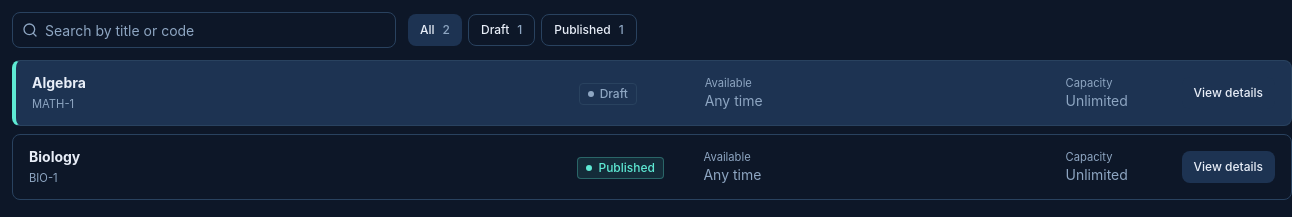
CourseList › searches, filters by status and marks the selected course
This screenshot has width=1292, height=217.
Type "bio" into the search field named "Search courses" at {"x": 204, "y": 30}, box [12,12,396,48]
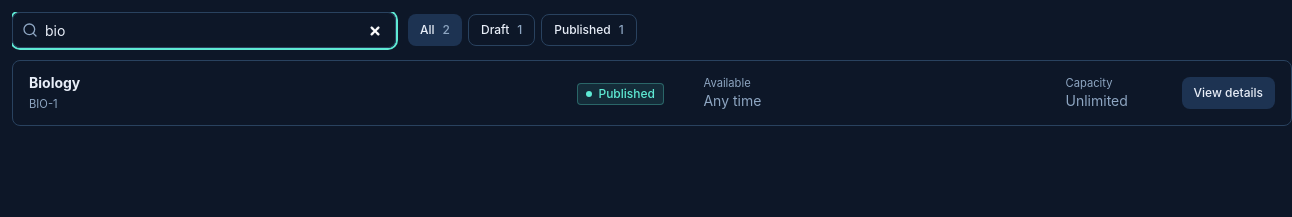
Expected: the text "Algebra" is gone
Click the button with aria-label "View details for Biology" at {"x": 1228, "y": 93}, box [1182,77,1275,109]
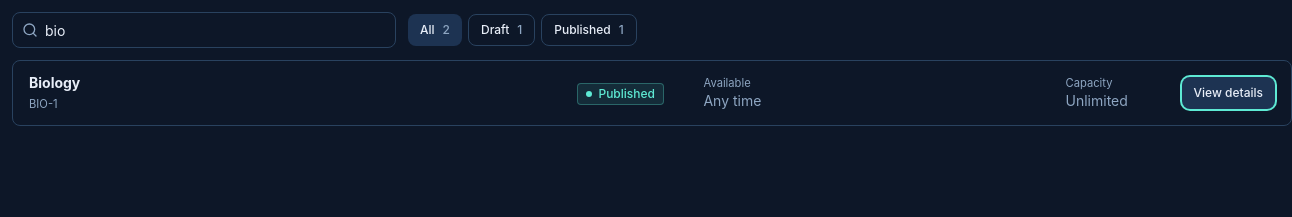
Clear the search field named "Search courses" at {"x": 204, "y": 30}, box [12,12,396,48]
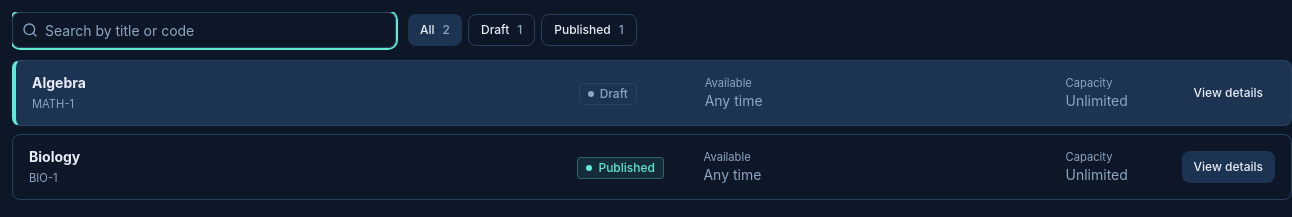
Click the button "Published 1" at {"x": 589, "y": 30}, box [541,14,637,46]
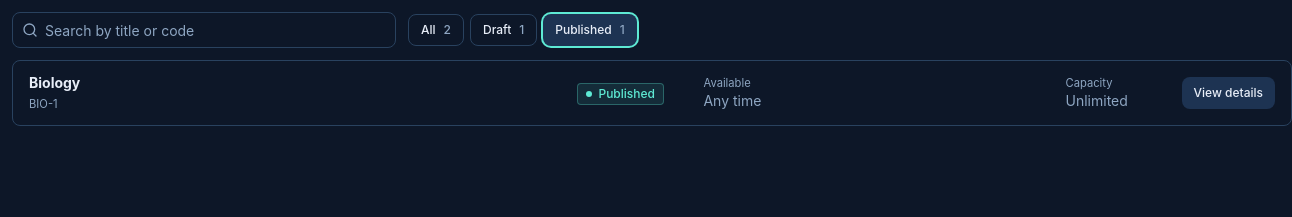
Expected: the text "Biology" is shown, [29,74,80,91]
Expected: the text "Algebra" is gone
